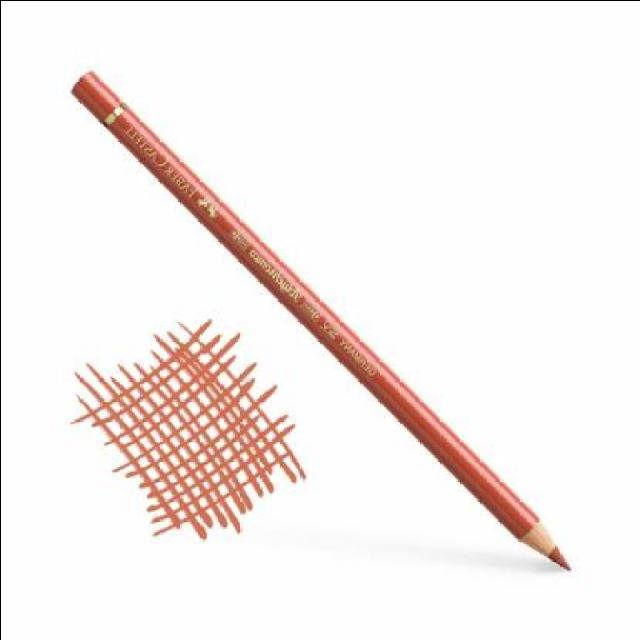pencil: (500, 502, 578, 576)
